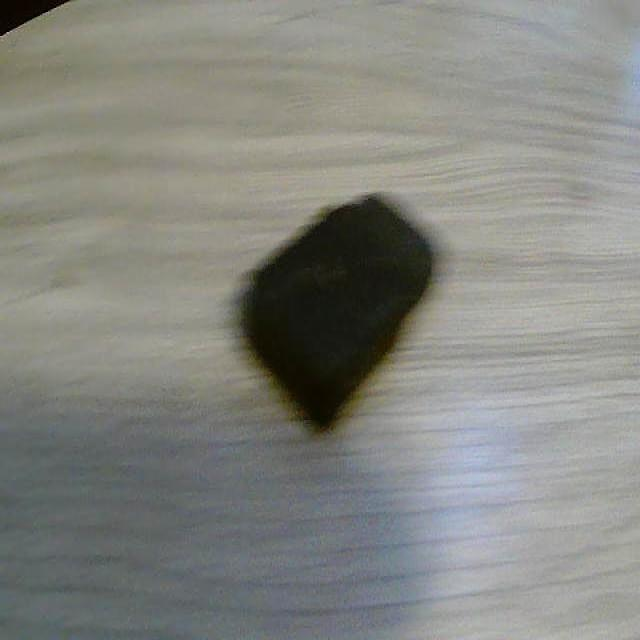borracha: (241, 168, 445, 472)
